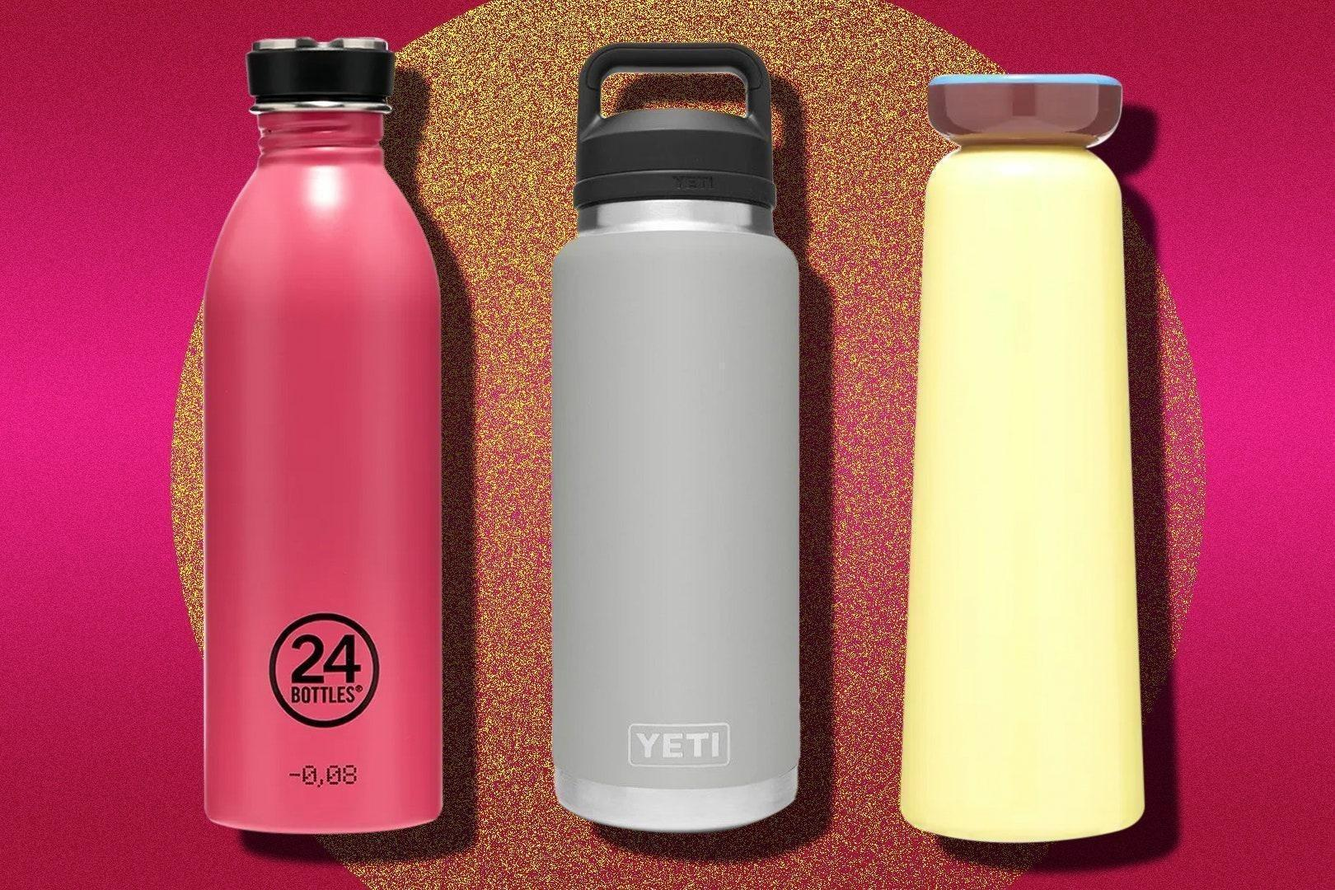gym bottle: (541, 35, 812, 838), (197, 30, 453, 841), (894, 64, 1154, 850)
